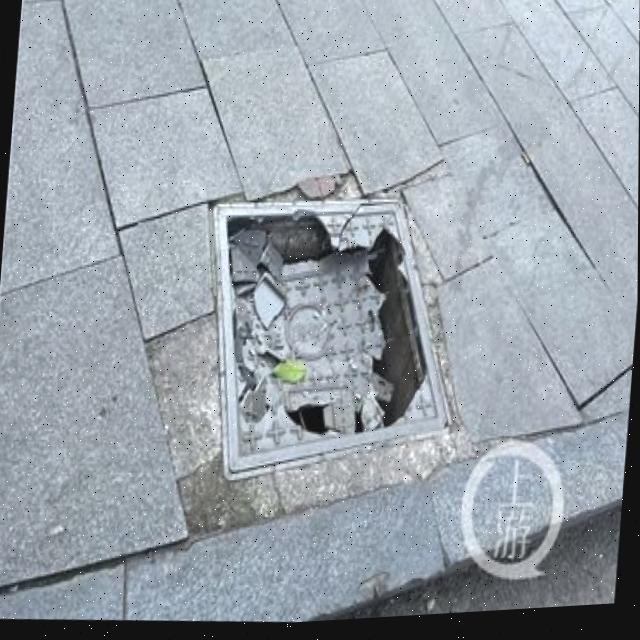manhole: (187, 179, 475, 485)
